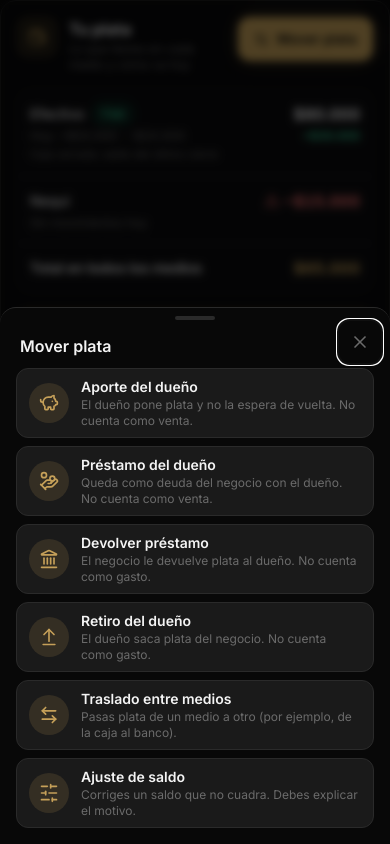
MoneyAccountsCard › ?mover=1&hacia=…&monto=… abre la hoja con el medio y el monto y limpia la URL
Click the text "Aporte del dueño" at (139, 386), box x1=81 y1=378 x2=198 y2=395
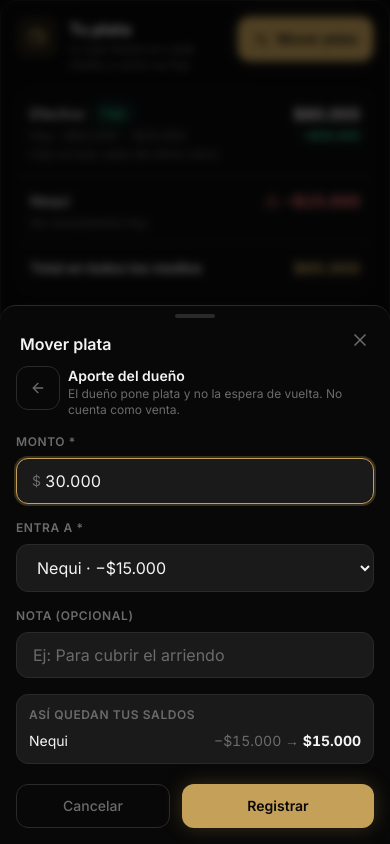
Check: the field labelled "Monto *" holds "30.000", box x1=16 y1=458 x2=374 y2=504
Check: the dropdown labelled "Entra a *" shows "Nequi · −$15.000", box x1=16 y1=544 x2=374 y2=592
